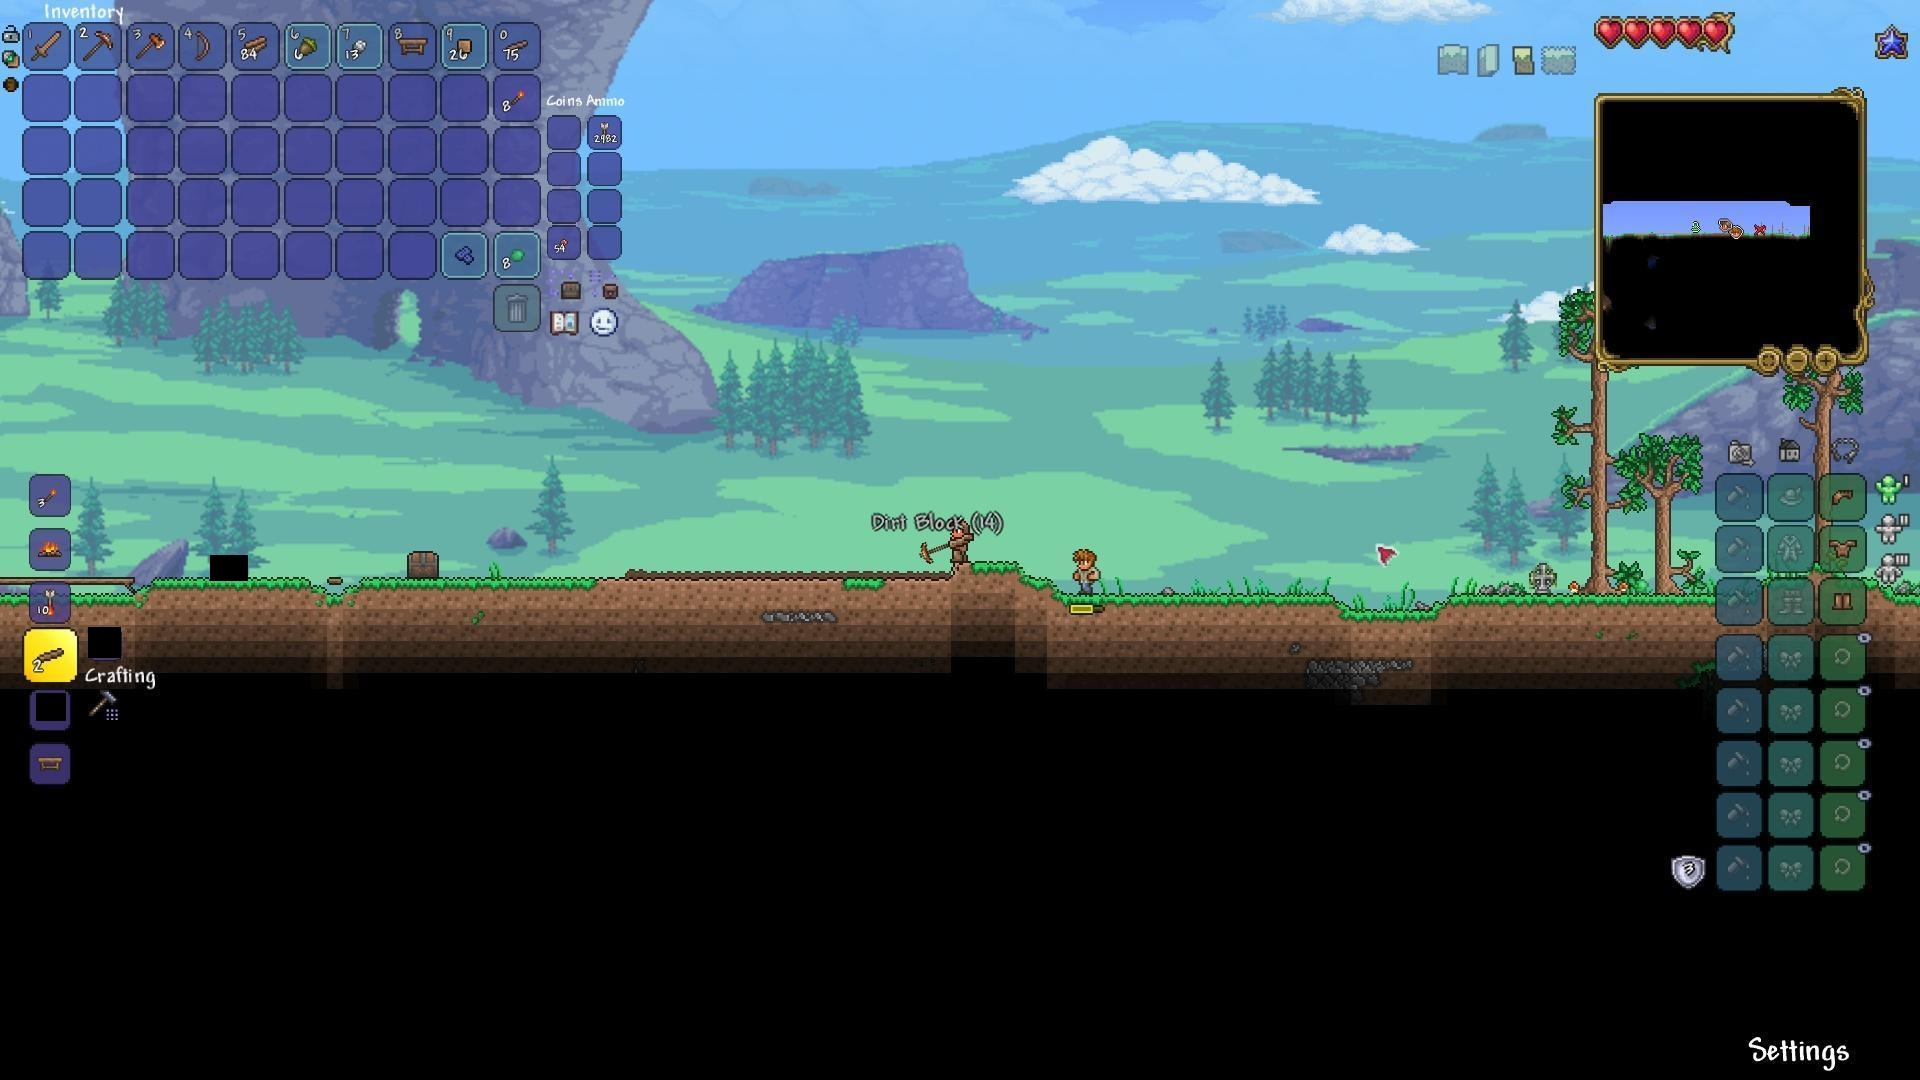breastplate: (1829, 539, 1859, 559)
helmet: (1829, 485, 1858, 512)
legs: (1832, 588, 1857, 615)
wood: (243, 33, 272, 61)
workbench: (393, 33, 430, 58), (36, 752, 67, 775)
